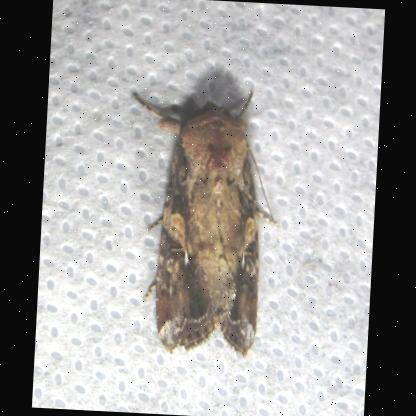Fall Armyworm Moth: (114, 78, 288, 362)
